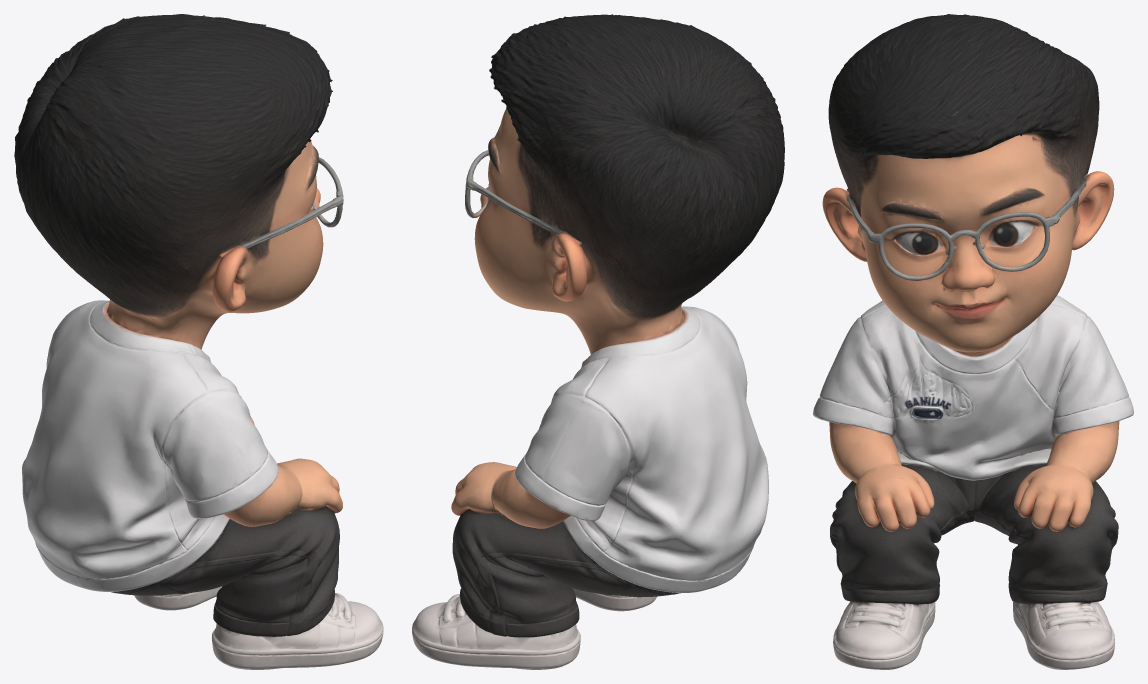
The model's file is 王薪宇.glb.
3 renders of one model, left to right at view 1: azimuth 30°, elevation 25°; view 2: azimuth 150°, elevation 25°; view 3: azimuth 270°, elevation 25°, orthographic. The views are drawn at different scales.
Parts seen in each view (by area): view 1: tripo_node_2df93661-b6f0-4307-9dd8-e1cdb21230d3; view 2: tripo_node_2df93661-b6f0-4307-9dd8-e1cdb21230d3; view 3: tripo_node_2df93661-b6f0-4307-9dd8-e1cdb21230d3.
Part boxes in pixels (x1,y1,x2,y2): tripo_node_2df93661-b6f0-4307-9dd8-e1cdb21230d3: (14, 14, 383, 669); tripo_node_2df93661-b6f0-4307-9dd8-e1cdb21230d3: (412, 14, 784, 669); tripo_node_2df93661-b6f0-4307-9dd8-e1cdb21230d3: (813, 14, 1133, 669).
Size of the model in its own units: 0.4959 by 0.9805 by 0.4974.
Materials: 1 (1 with a texture image).
